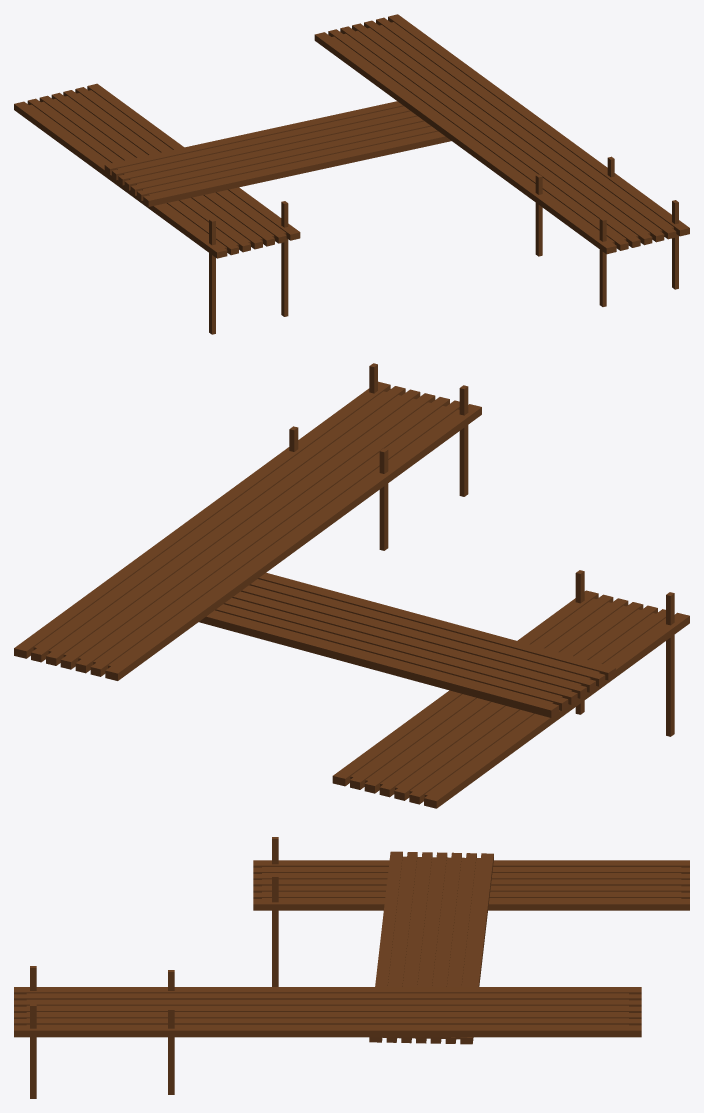
The model's file is muelle2.fbx.
The picture shows the model from 3 angles, top to bottom: view 1: azimuth 30°, elevation 25°; view 2: azimuth 150°, elevation 25°; view 3: azimuth 270°, elevation 25°; orthographic projection. The views are drawn at different scales.
Visible parts, largest first — view 1: Cube.014, Cube.026, Cube.025, Cube.024, Cube.027, Cube.004; view 2: Cube.014, Cube.026, Cube.025, Cube.024, Cube.027, Cube.004; view 3: Cube.014, Cube.025, Cube.026, Cube.024, Cube.027, Cube.004.
Part boxes in pixels (x1,y1,x2,y2): Cube.014: [314, 14, 689, 254]; Cube.026: [104, 101, 451, 206]; Cube.025: [14, 83, 300, 258]; Cube.024: [209, 201, 288, 334]; Cube.027: [599, 200, 678, 306]; Cube.004: [535, 156, 614, 256]; Cube.014: [14, 381, 481, 680]; Cube.026: [199, 572, 615, 717]; Cube.025: [332, 590, 689, 808]; Cube.024: [575, 570, 674, 736]; Cube.027: [369, 363, 468, 496]; Cube.004: [289, 426, 388, 550]; Cube.014: [14, 987, 641, 1037]; Cube.025: [253, 860, 689, 910]; Cube.026: [369, 851, 493, 1044]; Cube.024: [272, 837, 278, 986]; Cube.027: [30, 966, 36, 1098]; Cube.004: [168, 970, 174, 1094].
Size of the model in its own units: 12630 by 4237 by 18800.
